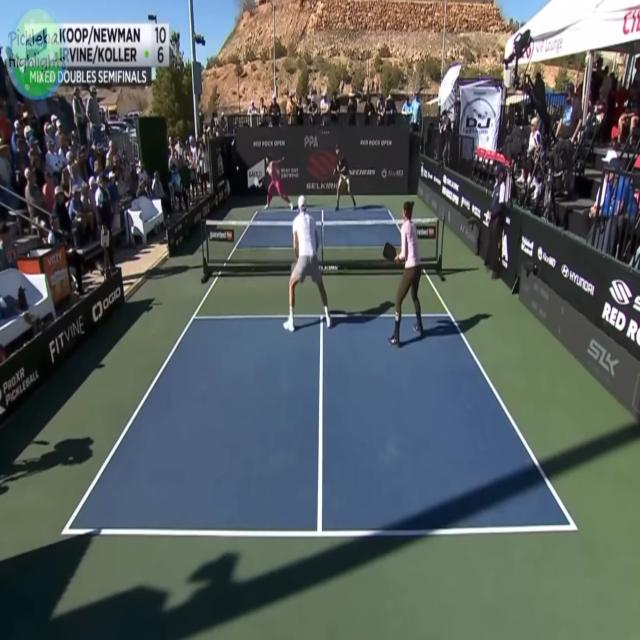ball: (234, 163, 240, 173)
